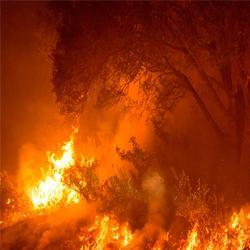fire: (31, 179, 67, 205), (52, 146, 75, 172)
